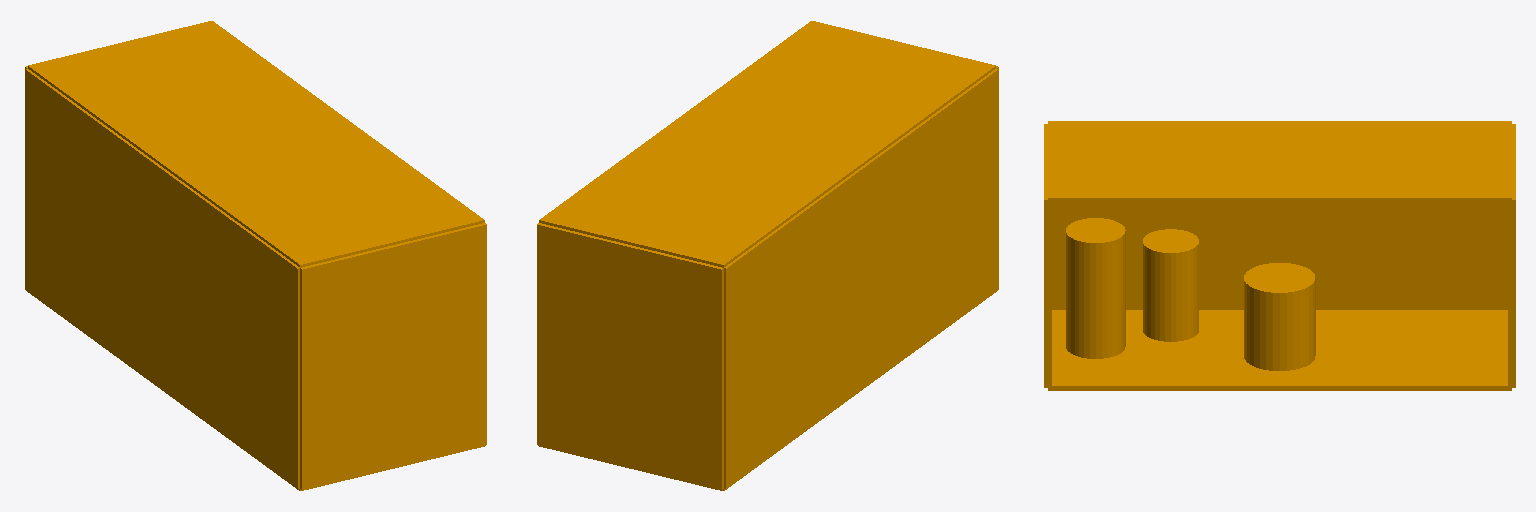
robot.urdf — syn_can_cabinet_2891:
<?xml version="1.0" ?>
<robot name="syn_can_cabinet_2891">
    <link concave="yes" name="base_link">
        <inertial>
            <origin rpy="0 0 0" xyz="0 0 0"/>
            <mass value="0.0"/>
            <inertia ixx="1e-08" ixy="0" ixz="0" iyy="1e-08" iyz="0" izz="1e-08"/>
        </inertial>
        <visual>
            <origin xyz="0 0 0" rpy="0 0 0" />
            <geometry>
                <mesh filename="syn_can_cabinet_2891.obj" scale="1.000000 1.000000 1.000000"/>
            </geometry>         
        </visual>

        <collision concave="yes">
            <origin xyz="0 0 0" rpy="0 0 0"/>
            <geometry>
                <mesh filename="syn_can_cabinet_2891.obj" scale="1.000000 1.000000 1.000000"/>
            </geometry>
        </collision>
    </link>
</robot>
    

--- Facts derived from the render (not from the file) ---
Views: 3 orthographic renders of the robot side by side, from view 1: azimuth 30°, elevation 25°; view 2: azimuth 150°, elevation 25°; view 3: azimuth 270°, elevation 25°.
Robot: syn_can_cabinet_2891 — 1 links, 0 joints (none); root link base_link; default pose: all joints at 0.
Visible links, largest first — view 1: base_link; view 2: base_link; view 3: base_link.
Boxes of the visible links, bbox=[...] form: base_link: bbox=[25, 21, 486, 490]; base_link: bbox=[537, 21, 998, 490]; base_link: bbox=[1044, 121, 1515, 390].
Size in the robot's own frame: 0.1665 by 0.4264 by 0.1923 metres.
1 mesh visuals loaded from 1 distinct referenced files (1 OBJ).
